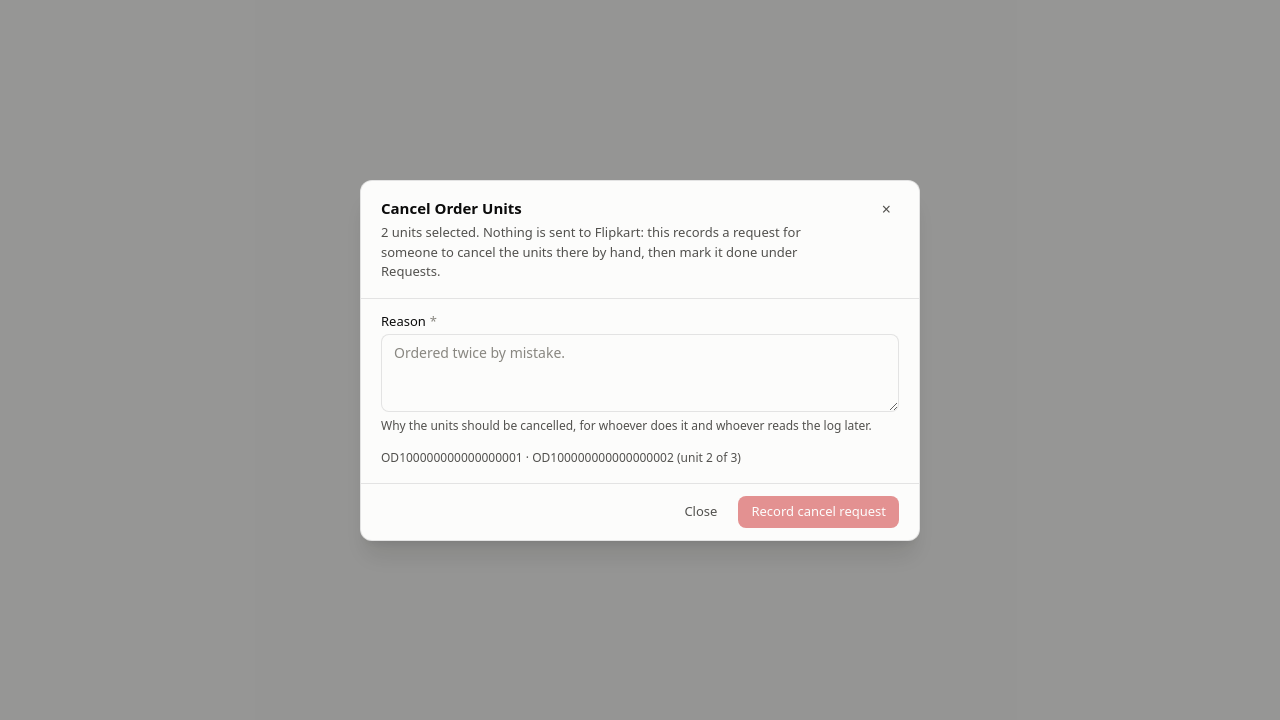
UnitRequestDialog › keeps a cancel disabled until a reason is typed, then posts the selected ids
Check: the text "2 units selected" is shown, box left=381, top=223, right=801, bottom=280
Check: the button "Record cancel request" is disabled, box left=738, top=496, right=899, bottom=528
Type "  Ordered twice  " into the text box labelled "Reason*" at [640, 372], box left=381, top=334, right=899, bottom=412
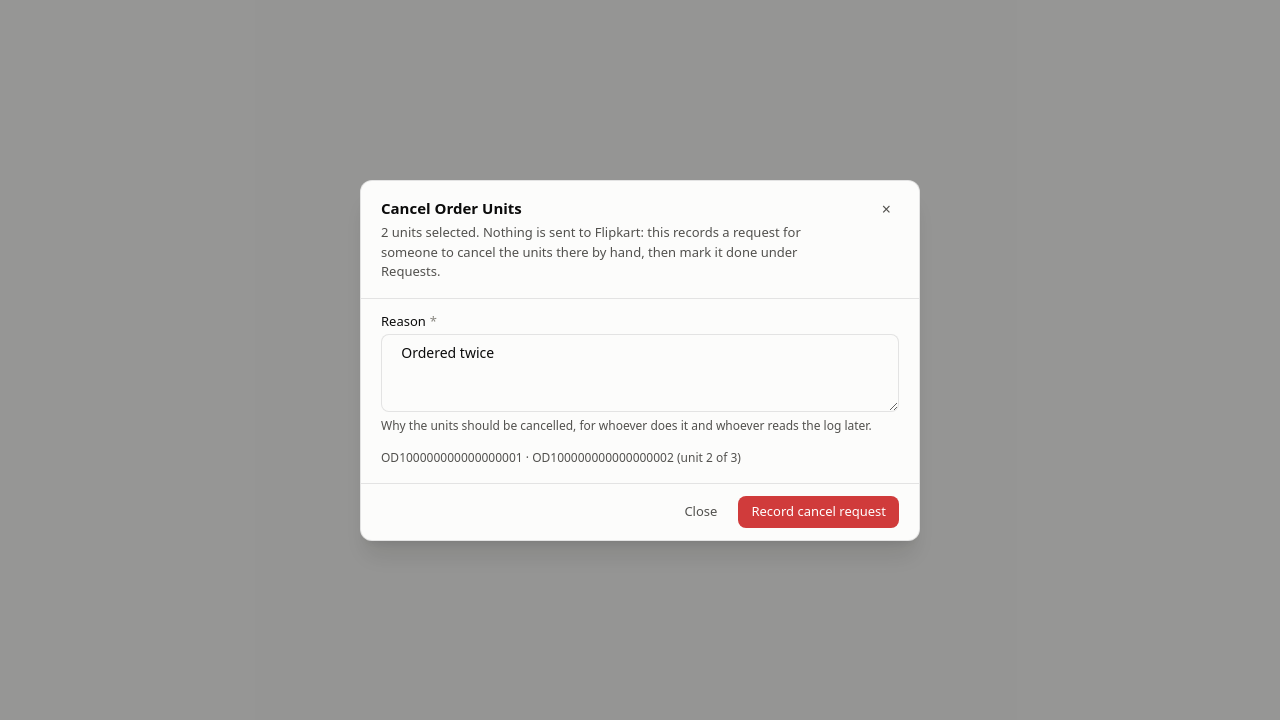
Check: the button "Record cancel request" is enabled
Click the button "Record cancel request" at [819, 512], box left=738, top=496, right=899, bottom=528
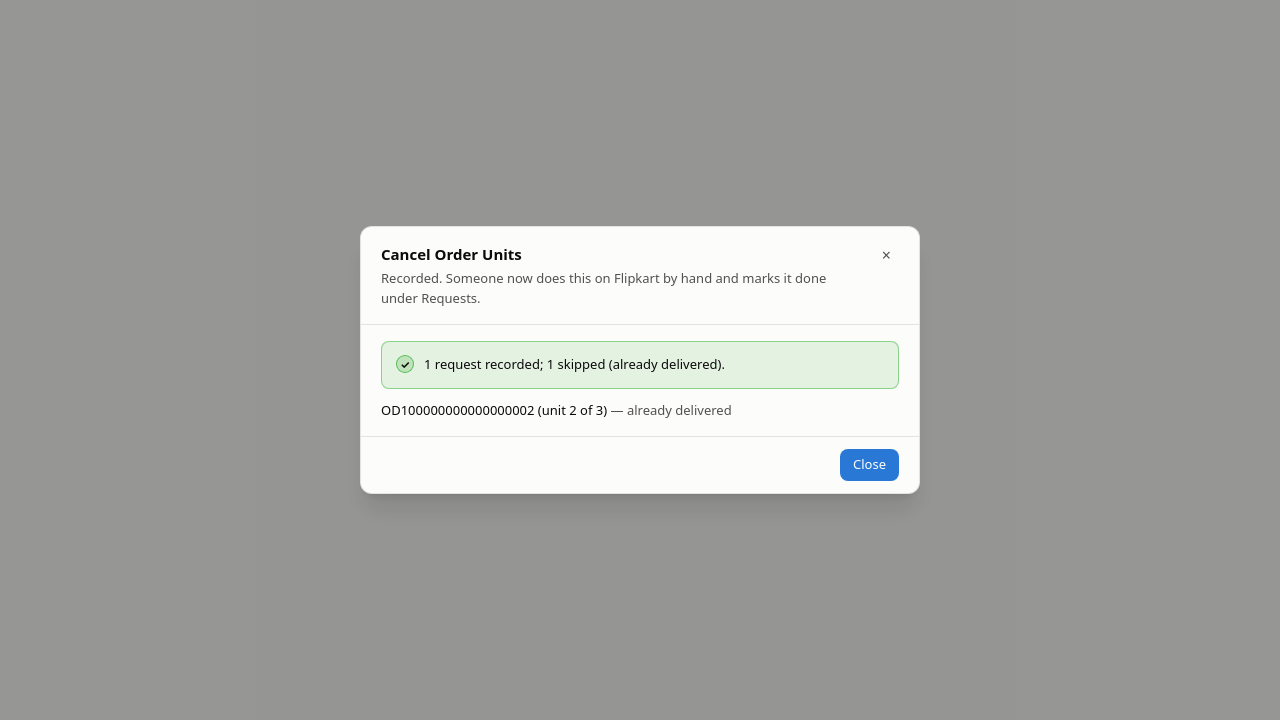
Check: the text "OD100000000000000002 (unit 2 of 3)" is shown, box left=381, top=401, right=607, bottom=419
Check: the text "1 request recorded; 1 skipped (already delivered)." is shown, box left=424, top=354, right=725, bottom=376
Check: the button "Record cancel request" is gone
